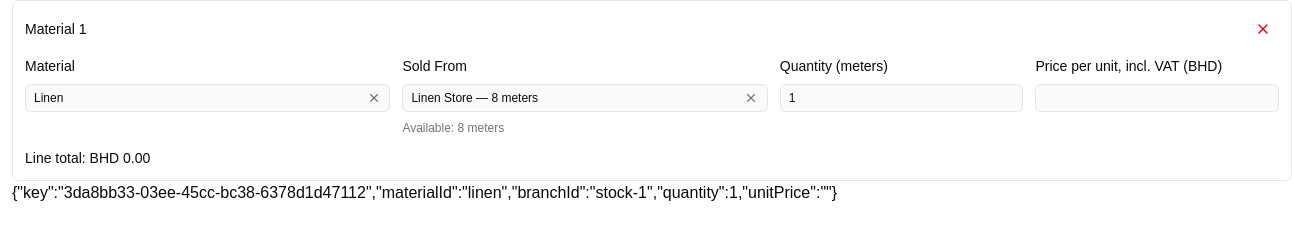
it: MaterialBlock stock locations › clears the sold-from location when the material changes
Press the mouse on the dropdown labelled "Material" at (194, 98), box [26,84,362,112]
Press the mouse on the dropdown labelled "Material" at (194, 98), box [26,84,362,112]
Click the dropdown labelled "Material". click: click(194, 98)
box: [26,84,362,112]
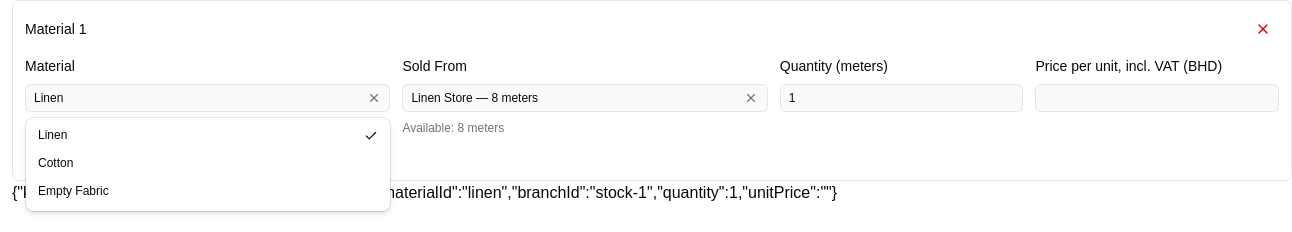
Click the option "Cotton". click: click(56, 163)
box: [38,156,73,170]
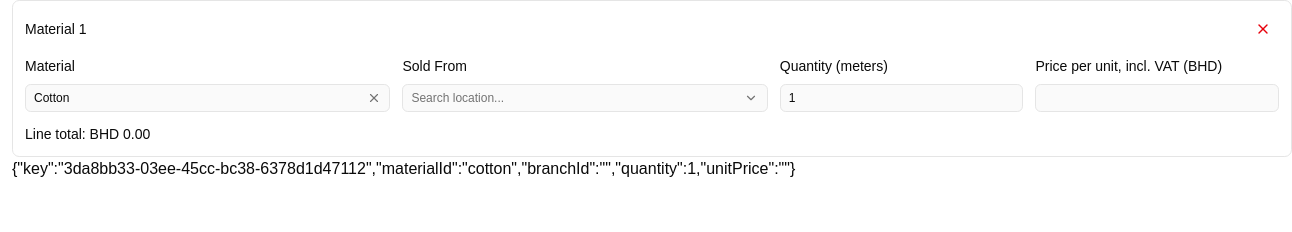
Press the mouse on the dropdown labelled "Sold From" at (571, 98), box [403,84,739,112]
Press the mouse on the dropdown labelled "Sold From" at (571, 98), box [403,84,739,112]
Click the dropdown labelled "Sold From". click: click(571, 98)
box: [403,84,739,112]
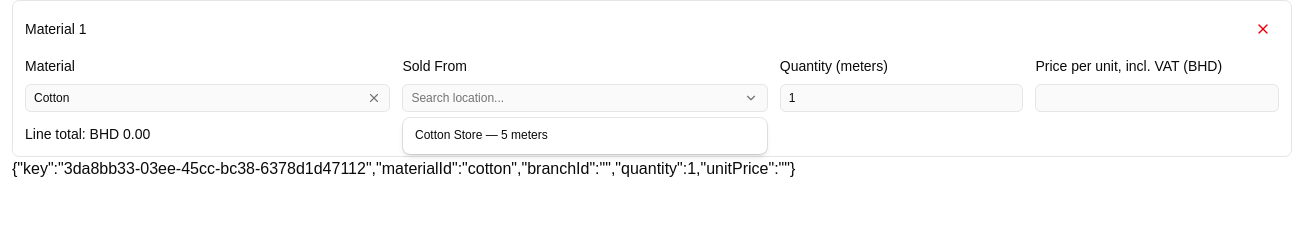
Expected: the option "Linen Store" is not shown
Expected: the option "Cotton Store — 5 meters" is shown, [415,128,548,142]
